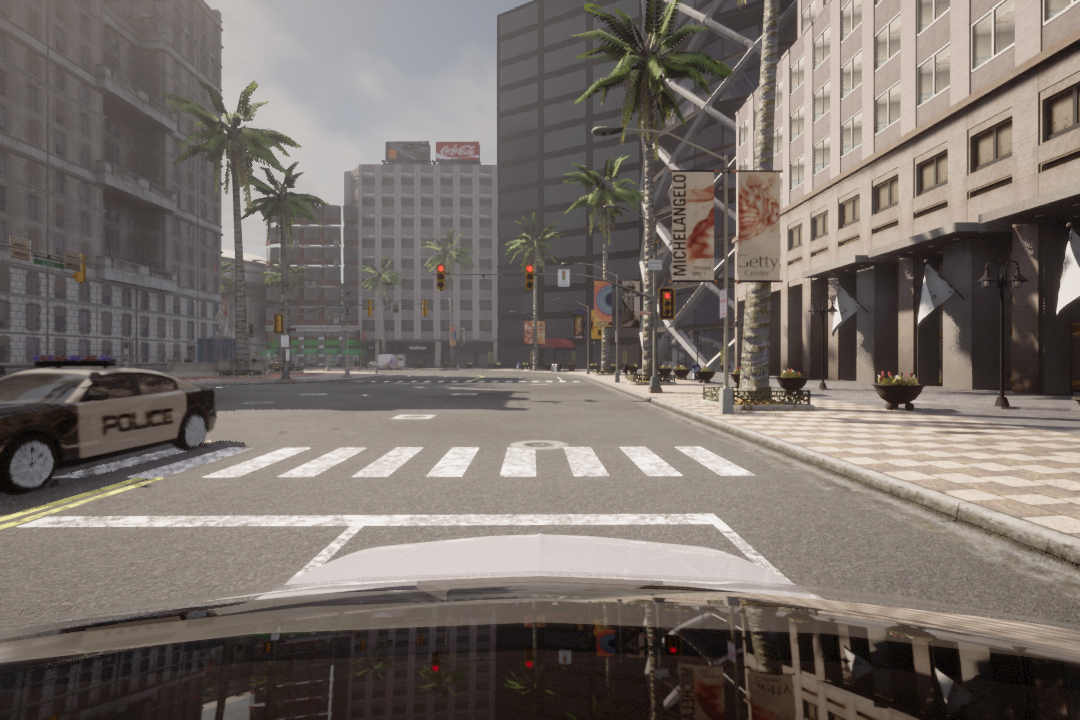TrafficLight: (660, 287, 674, 318), (524, 264, 537, 292), (436, 264, 444, 291)
walkside: (47, 427, 755, 483)
